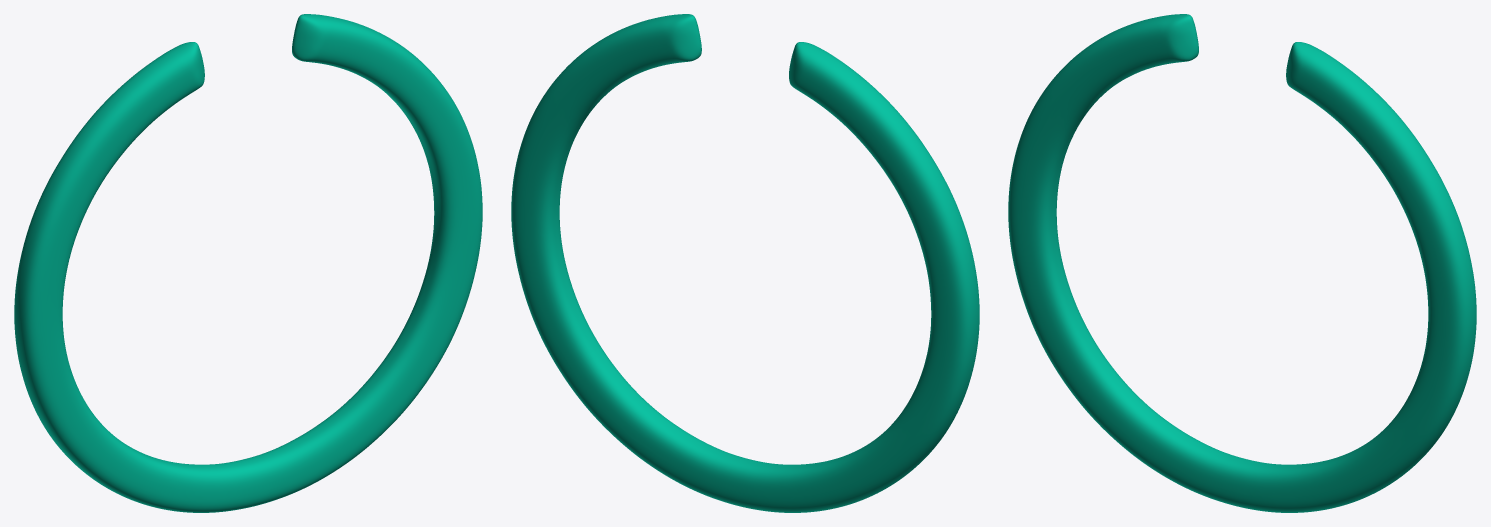
The model's file is BE27345_RENDER.glb.
3 renders of one model, left to right at view 1: azimuth 30°, elevation 25°; view 2: azimuth 150°, elevation 25°; view 3: azimuth 330°, elevation 25°, orthographic.
Visible parts, largest first — view 1: Metal03; view 2: Metal03; view 3: Metal03.
Part boxes in pixels (x1,y1,x2,y2): Metal03: (14,14,482,512); Metal03: (511,14,979,512); Metal03: (1008,14,1476,512).
Size of the model in its own units: 20.07 by 19.77 by 1.39.
